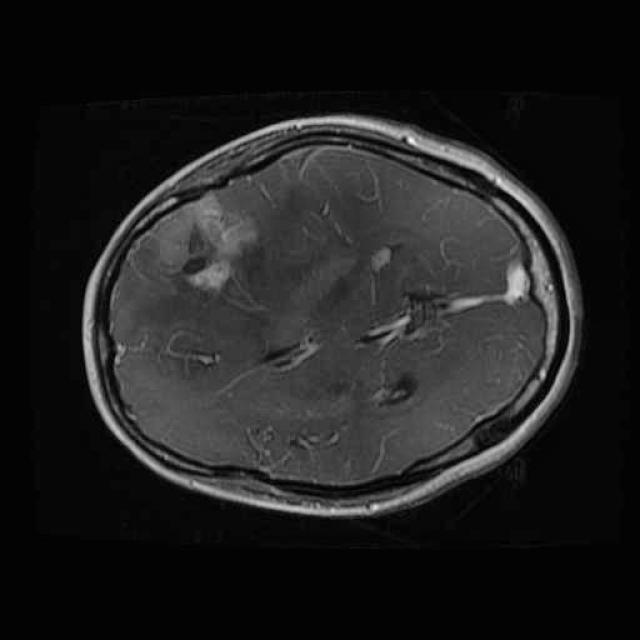Tumor: (120, 178, 270, 310)
